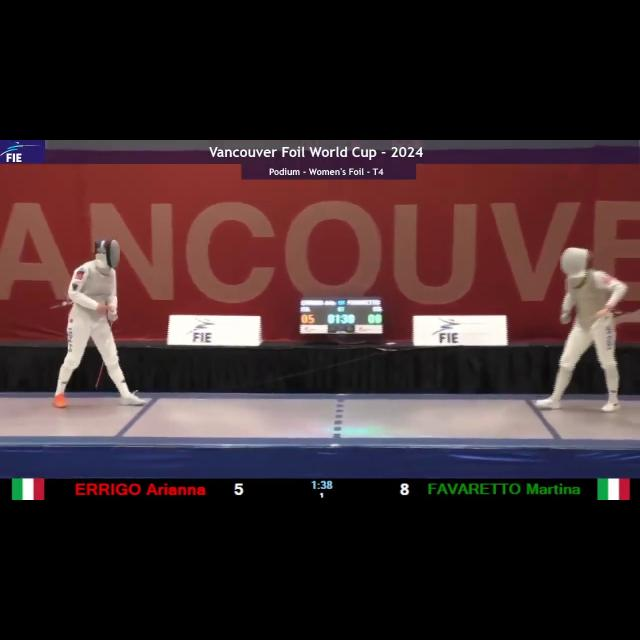blade: (94, 313, 118, 389)
